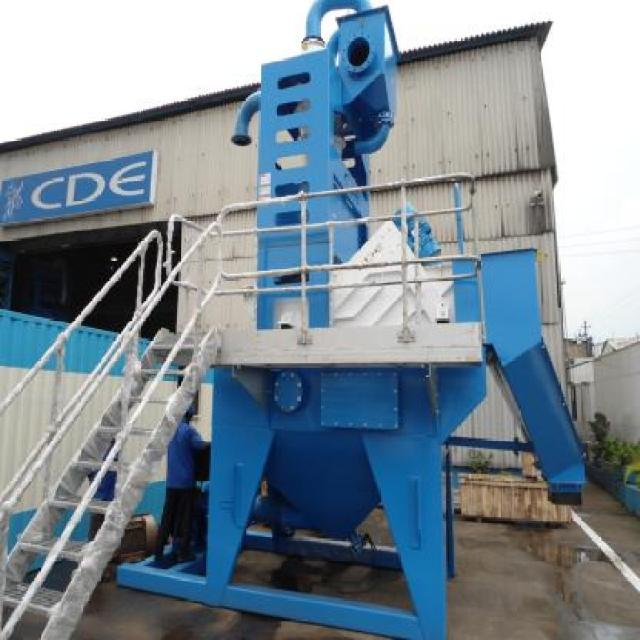stair: (0, 323, 223, 640)
